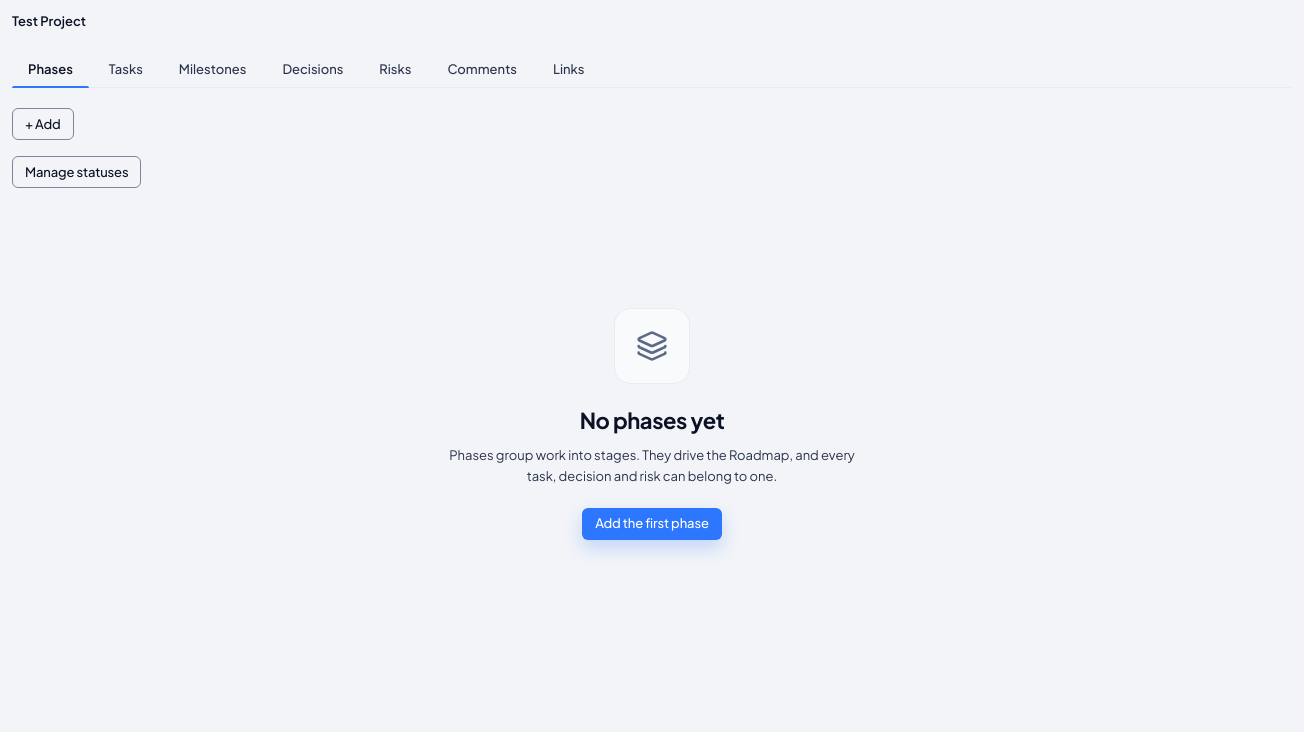
PlanningPanel › renders milestones with target date when present
The width and height of the screenshot is (1304, 732).
Expected: the text "Test Project" is shown, [12,13,86,29]
Click the tab "Milestones": click(213, 69) [163,52,262,87]
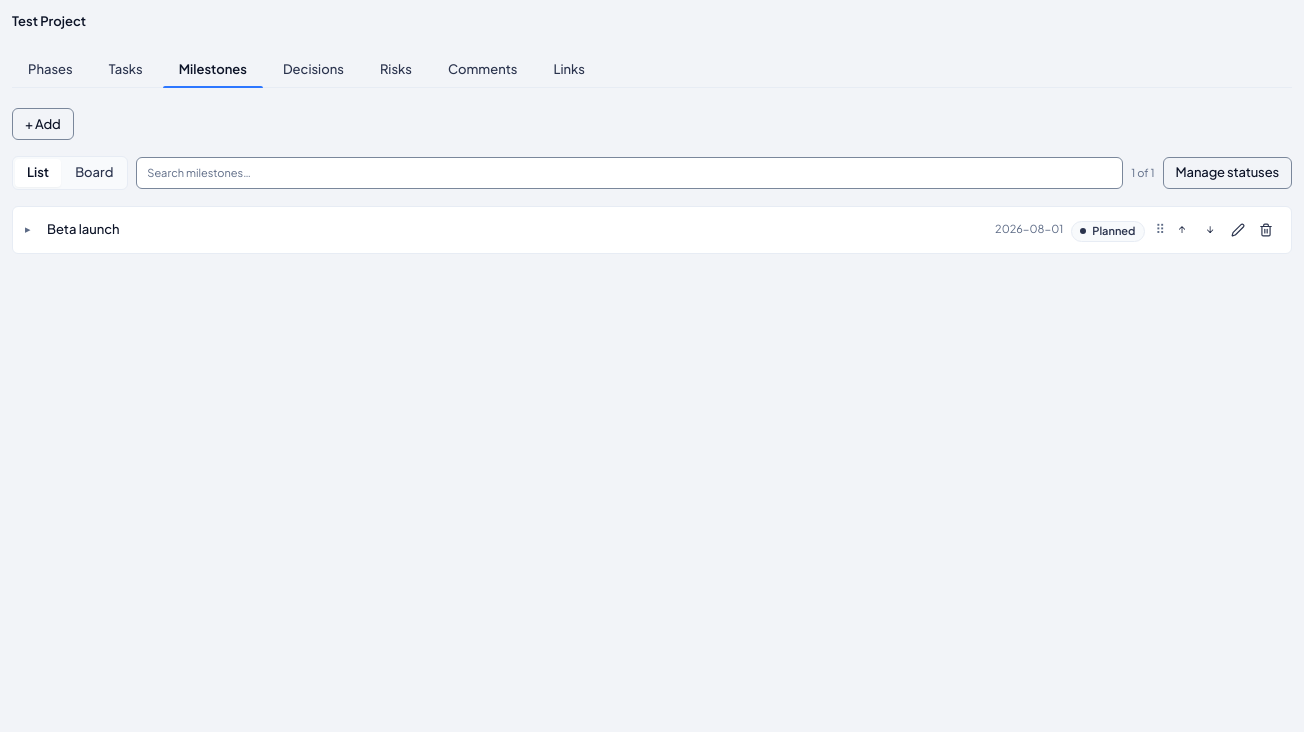
Expected: the text "Beta launch" is shown, [47,221,120,237]
Expected: the text "2026-08-01" is shown, [995,221,1063,238]
